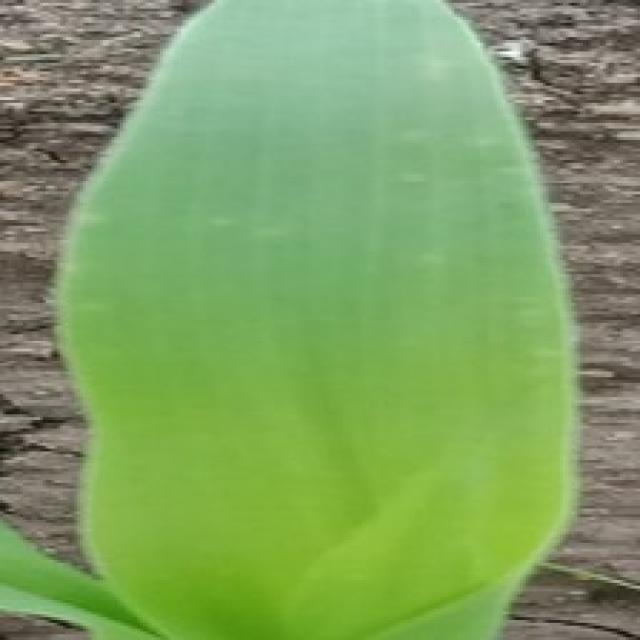Corn: (0, 0, 586, 637)
